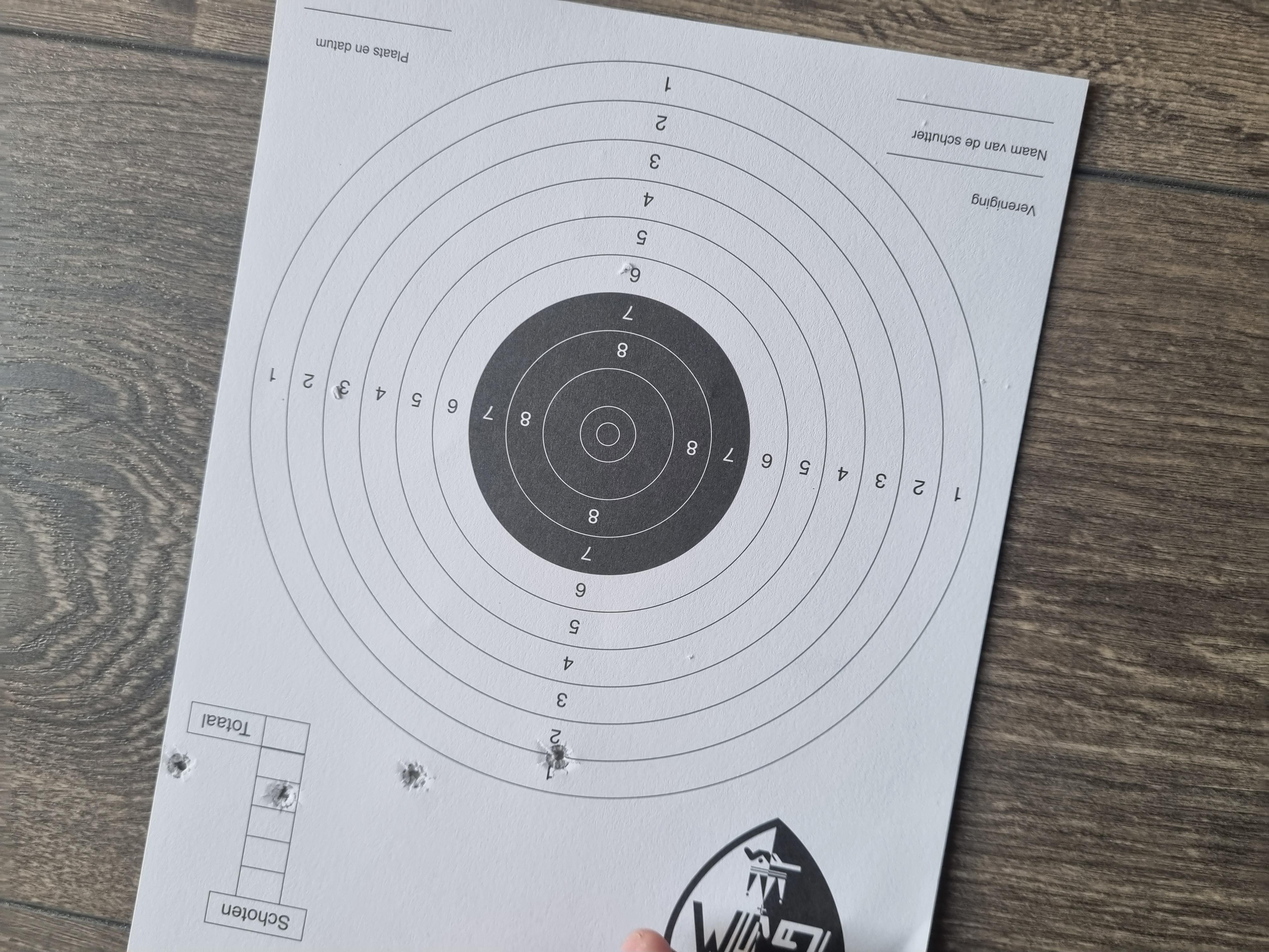hole: (233, 402, 285, 433), (208, 298, 258, 326), (185, 198, 230, 226), (224, 124, 273, 146)
